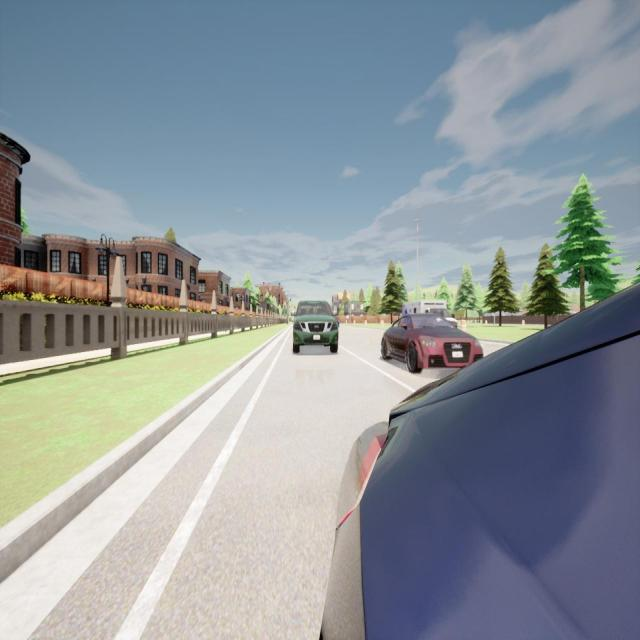Vehicle: (322, 284, 640, 638), (378, 315, 483, 373), (290, 300, 338, 353), (398, 300, 458, 327)
